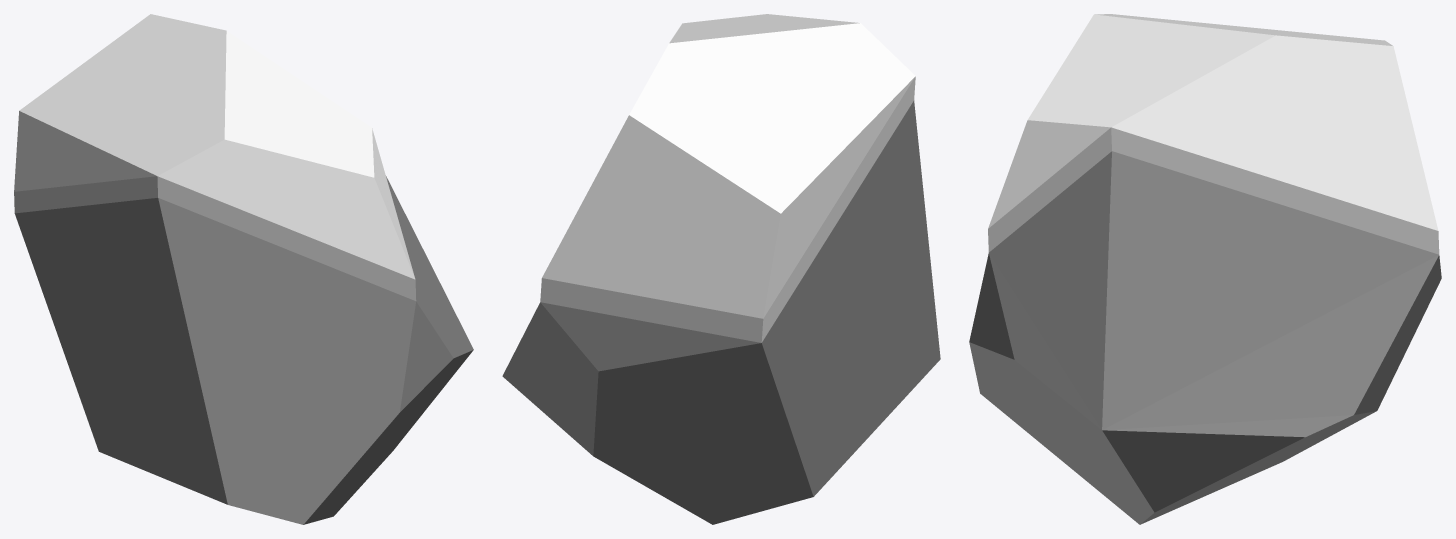
Rendered from SnowRock_03.glb.
3 views of the same model, side by side, from view 1: azimuth 30°, elevation 25°; view 2: azimuth 150°, elevation 25°; view 3: azimuth 270°, elevation 25° (orthographic). The views are drawn at different scales.
Parts seen in each view (by area): view 1: SnowRock_03; view 2: SnowRock_03; view 3: SnowRock_03.
Part boxes in pixels (x1=…): SnowRock_03: x1=14, y1=14, x2=473, y2=524; SnowRock_03: x1=502, y1=14, x2=940, y2=524; SnowRock_03: x1=969, y1=14, x2=1441, y2=524.
Size of what is drawn, in the model's own units: 1.59 by 2.13 by 1.95.
1 material, 1 textured.
